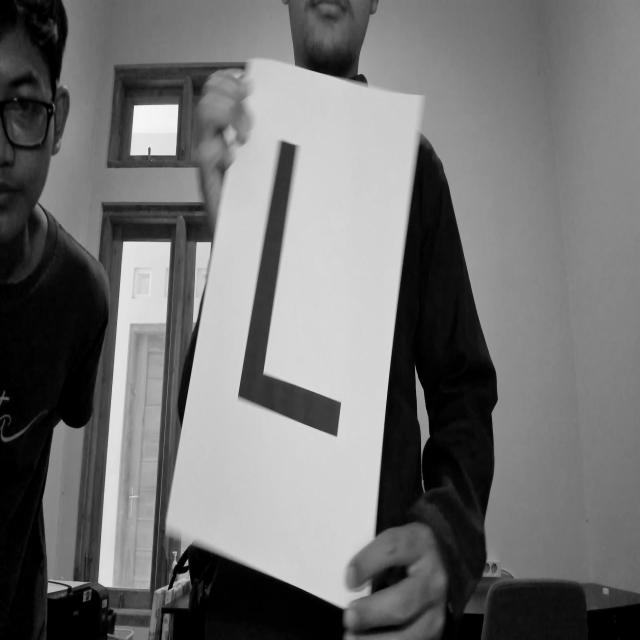l: (227, 120, 355, 453)
